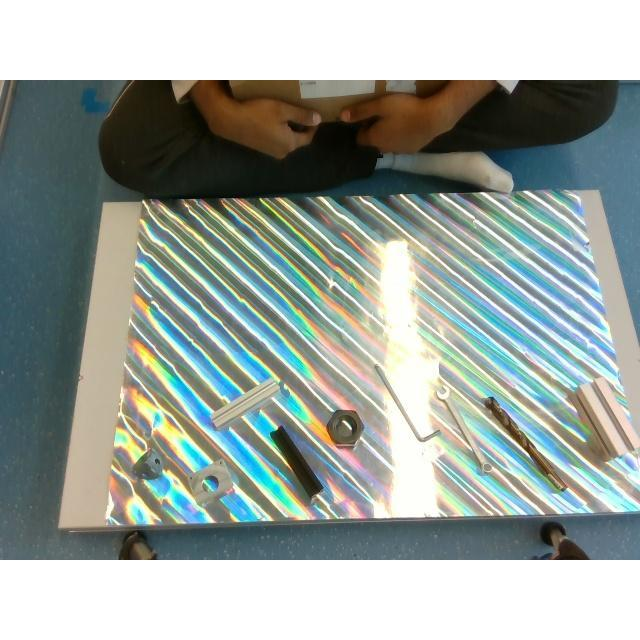Drill: (484, 396, 568, 492)
F20_20_B: (270, 426, 322, 502)
F20_20_G: (211, 376, 281, 428)
M20: (326, 409, 362, 446)
S40_40_G: (574, 376, 638, 460)
